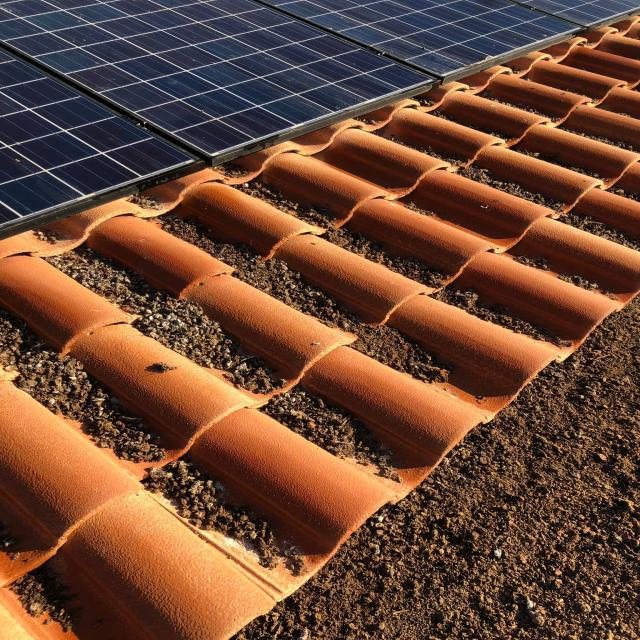clean-solar-panel: (0, 0, 638, 236)
